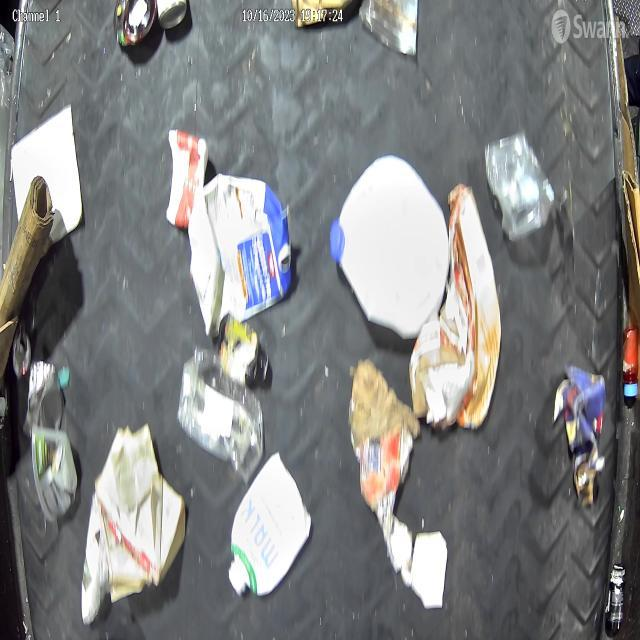can: (482, 130, 556, 245), (23, 360, 66, 438), (156, 0, 188, 31)
milk_jug: (328, 151, 450, 340)
non_white_jug: (188, 172, 292, 338)
